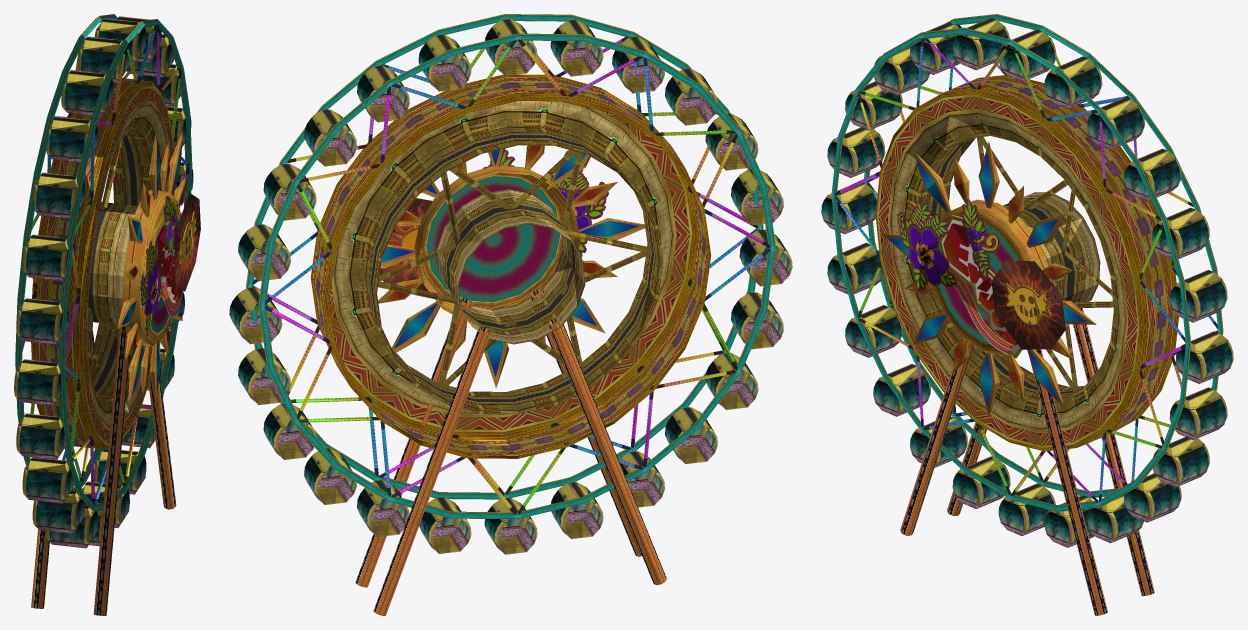
Rendered from stg110_MotWheel_01.obj.
3 renders of one model, left to right at view 1: azimuth 30°, elevation 25°; view 2: azimuth 150°, elevation 25°; view 3: azimuth 270°, elevation 25°, orthographic. The views are drawn at different scales.
Visible parts, largest first — view 1: polygon16, polygon15, polygon13, polygon7, polygon9, polygon14, polygon8, polygon1, polygon5, polygon80, polygon77, polygon74 (+37 smaller); view 2: polygon13, polygon16, polygon15, polygon14, polygon7, polygon8, polygon9, polygon10, polygon12, polygon5, polygon1, polygon87 (+24 smaller); view 3: polygon16, polygon13, polygon15, polygon7, polygon9, polygon14, polygon1, polygon8, polygon5, polygon12, polygon4, polygon10 (+50 smaller).
Part boxes in pixels (box(x1,y1,x2,y2)): polygon16: box(31, 78, 176, 449); polygon15: box(15, 14, 192, 511); polygon13: box(87, 104, 169, 426); polygon7: box(31, 326, 176, 615); polygon9: box(117, 130, 185, 406); polygon14: box(22, 24, 189, 505); polygon8: box(88, 202, 137, 324); polygon1: box(140, 195, 177, 336); polygon5: box(174, 193, 200, 291); polygon80: box(36, 498, 84, 529); polygon77: box(26, 469, 74, 499); polygon74: box(19, 426, 66, 455); polygon13: box(334, 101, 672, 414); polygon16: box(310, 74, 711, 458); polygon15: box(246, 14, 775, 519); polygon14: box(252, 37, 770, 514); polygon7: box(355, 289, 666, 615); polygon8: box(436, 189, 585, 344); polygon9: box(378, 145, 645, 388); polygon10: box(426, 176, 559, 301); polygon12: box(381, 149, 639, 376); polygon5: box(379, 198, 432, 291); polygon1: box(483, 150, 608, 258); polygon87: box(558, 482, 603, 538); polygon16: box(875, 75, 1178, 451); polygon13: box(890, 112, 1125, 429); polygon15: box(831, 14, 1223, 511); polygon7: box(900, 308, 1154, 615); polygon9: box(881, 141, 1096, 416); polygon14: box(834, 24, 1217, 502); polygon1: box(897, 199, 999, 291); polygon8: box(1003, 192, 1100, 302); polygon5: box(991, 260, 1065, 349); polygon12: box(888, 152, 1087, 407); polygon4: box(943, 223, 1017, 345); polygon10: box(938, 224, 1017, 342).
Size of the model in its own units: 825 by 1175 by 825.
